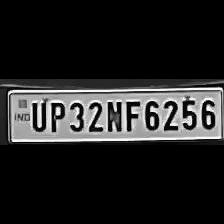2: (84, 98, 104, 132), (160, 97, 180, 131)
3: (66, 98, 84, 132)
5: (179, 96, 197, 130)
6: (140, 97, 160, 131), (198, 96, 216, 130)
F: (122, 97, 140, 132)
N: (104, 97, 122, 132)
P: (46, 98, 66, 132)
U: (27, 98, 46, 132)
